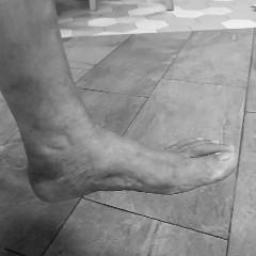Medial View -Left Foot-: (8, 98, 248, 216)
